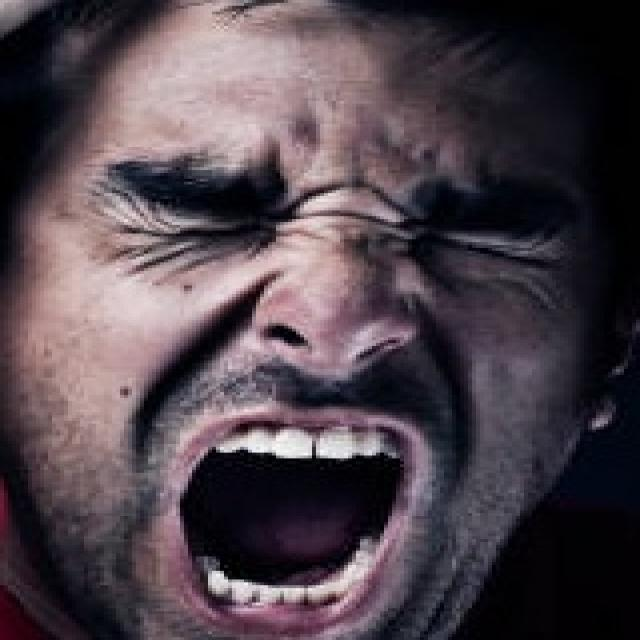Anxiety: (0, 3, 602, 637)
